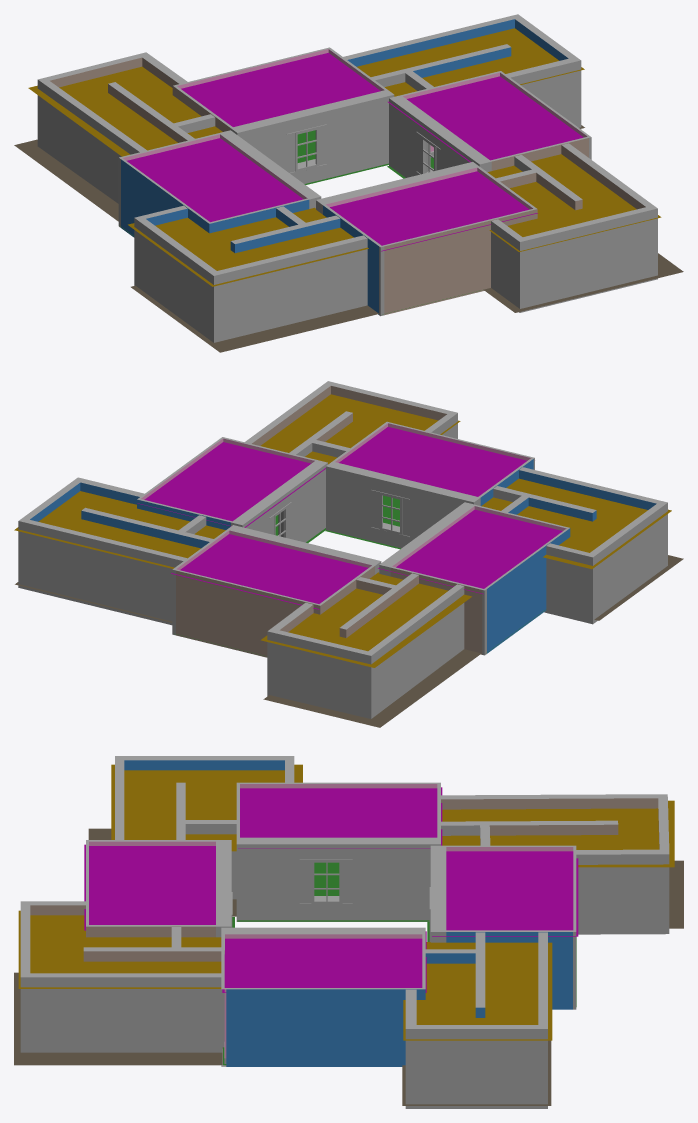
The model's file is Room_Loop1.fbx.
3 views of the same model, one above another, from view 1: azimuth 30°, elevation 25°; view 2: azimuth 150°, elevation 25°; view 3: azimuth 270°, elevation 25° (orthographic). The views are drawn at different scales.
Visible parts, largest first — view 1: polySurface475; view 2: polySurface475; view 3: polySurface475.
Boxes of the visible parts, left/top/right/bottom form: polySurface475: left=14, top=14, right=683, bottom=352; polySurface475: left=14, top=381, right=683, bottom=727; polySurface475: left=14, top=756, right=683, bottom=1108.
Size of the model in its own units: 4182 by 565 by 4269.
